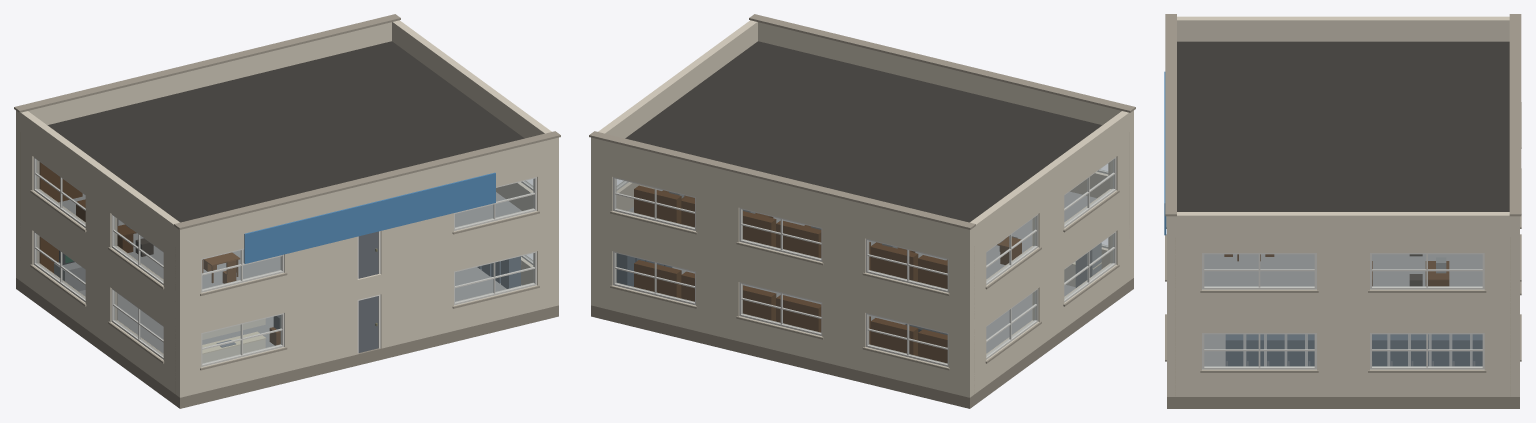
The model's file is pilot_station.glb.
3 views of the same model, side by side, from view 1: azimuth 30°, elevation 25°; view 2: azimuth 150°, elevation 25°; view 3: azimuth 270°, elevation 25° (orthographic). The views are drawn at different scales.
Parts seen in each view (by area): view 1: LOD0, FURN, LEAF0, LEAF1; view 2: LOD0, FURN; view 3: LOD0, FURN.
Boxes of the visible parts, x1,y1,x2,y2 form: LOD0: (14,14,560,408); FURN: (39,162,521,363); LEAF0: (358,296,378,352); LEAF1: (358,231,378,278); LOD0: (589,14,1135,408); FURN: (616,185,1101,363); LOD0: (1164,14,1521,408); FURN: (1224,254,1482,366).
Size of what is drawn, in the model's own units: 16.12 by 7.33 by 12.14.
